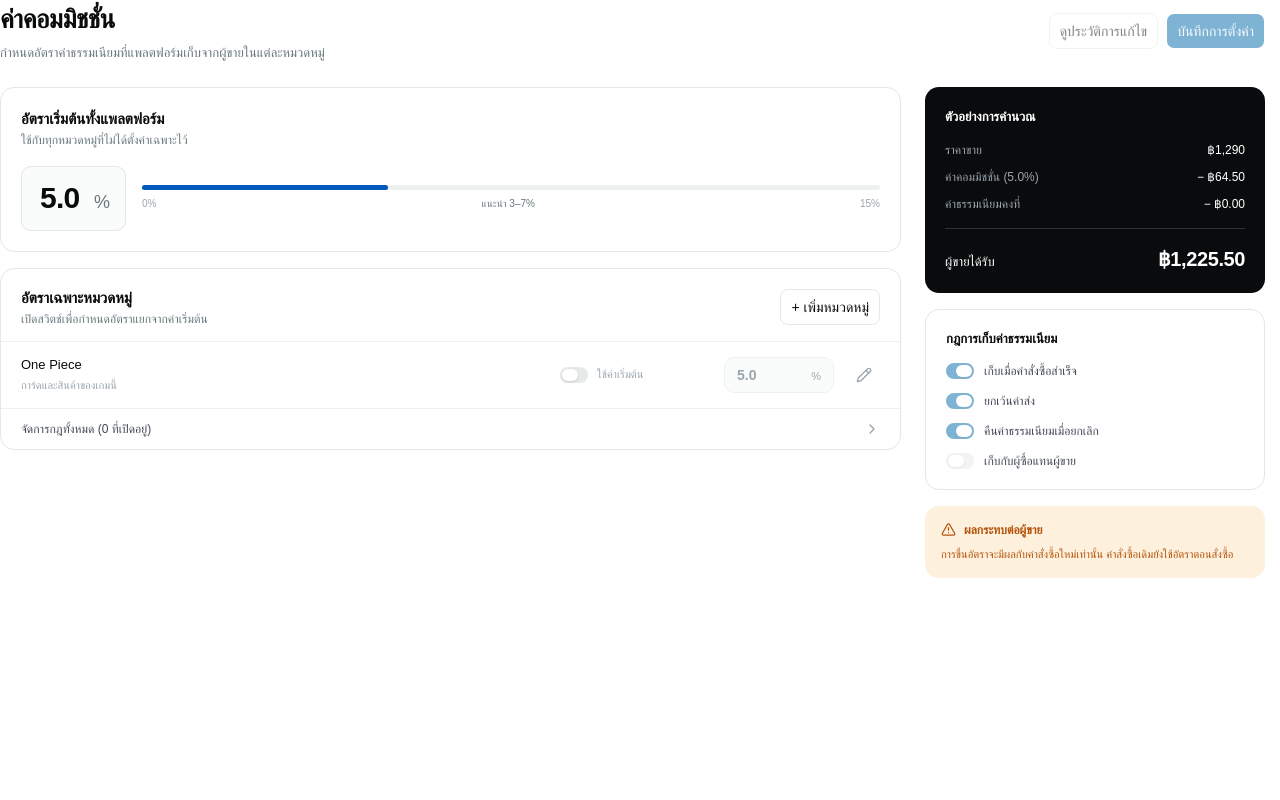
Test case: admin commission settings › shows a missing seller from the API and clears it once the form changes
Expected: the text "One Piece" is shown, [21,357,82,372]
Click the button "+ เพิ่มหมวดหมู่": (830, 307) [780,289,880,325]
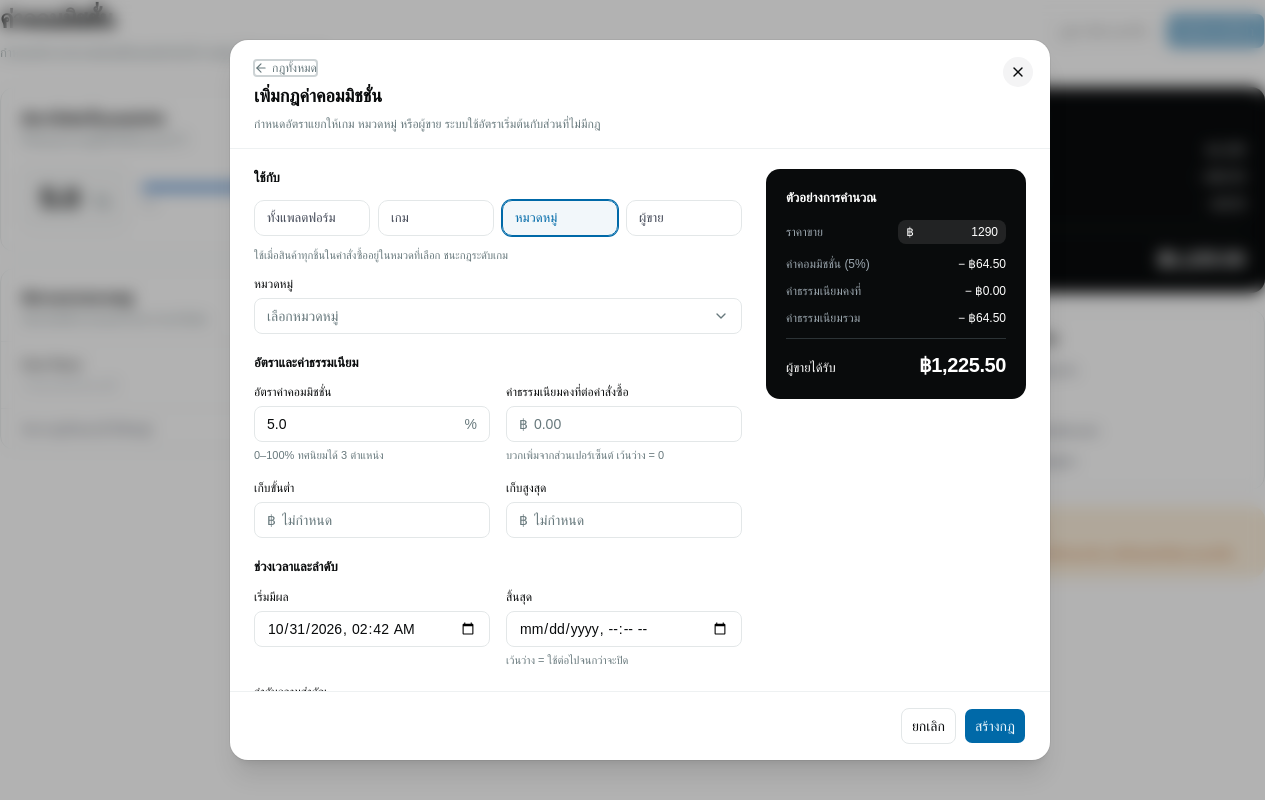
Click the radio button labelled "ผู้ขาย": (684, 218) [626,200,742,236]
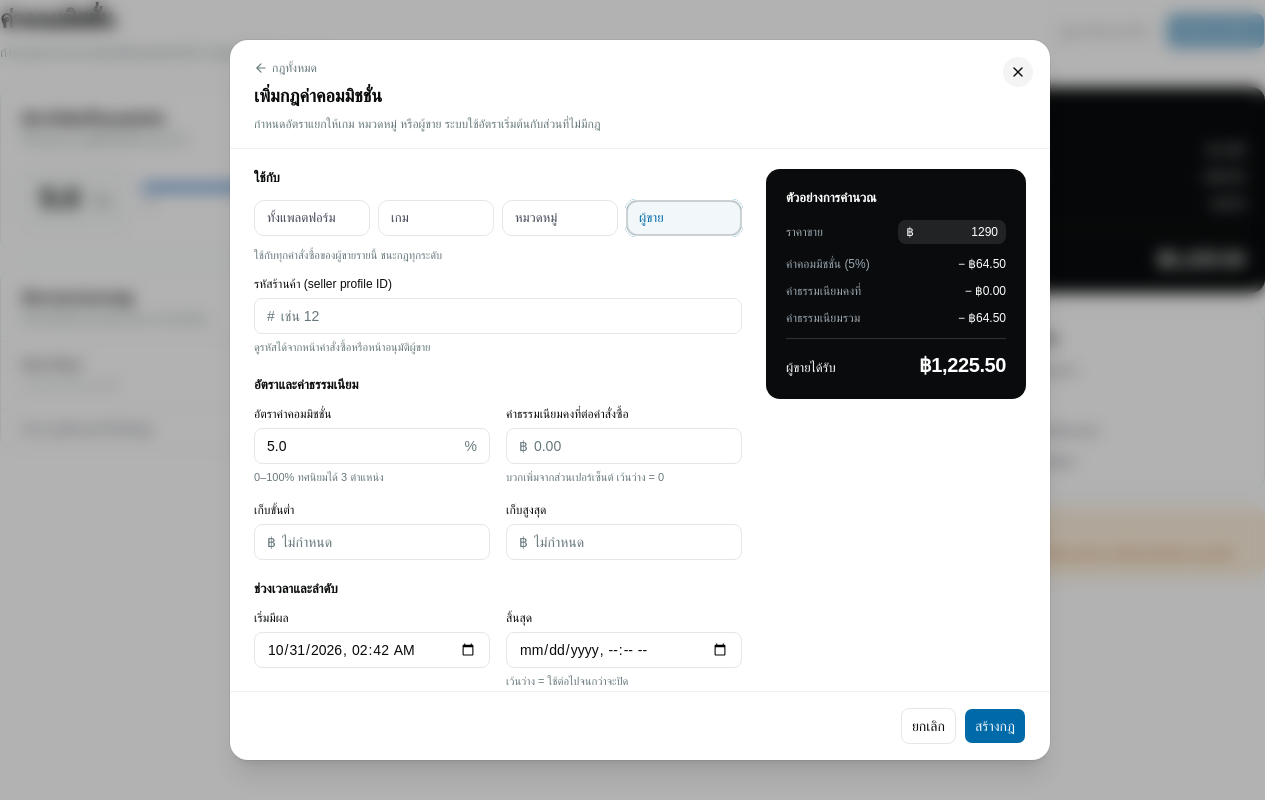
In the field labelled "รหัสร้านค้า (seller profile ID)": (508, 316) [275,298,741,334], type "999"
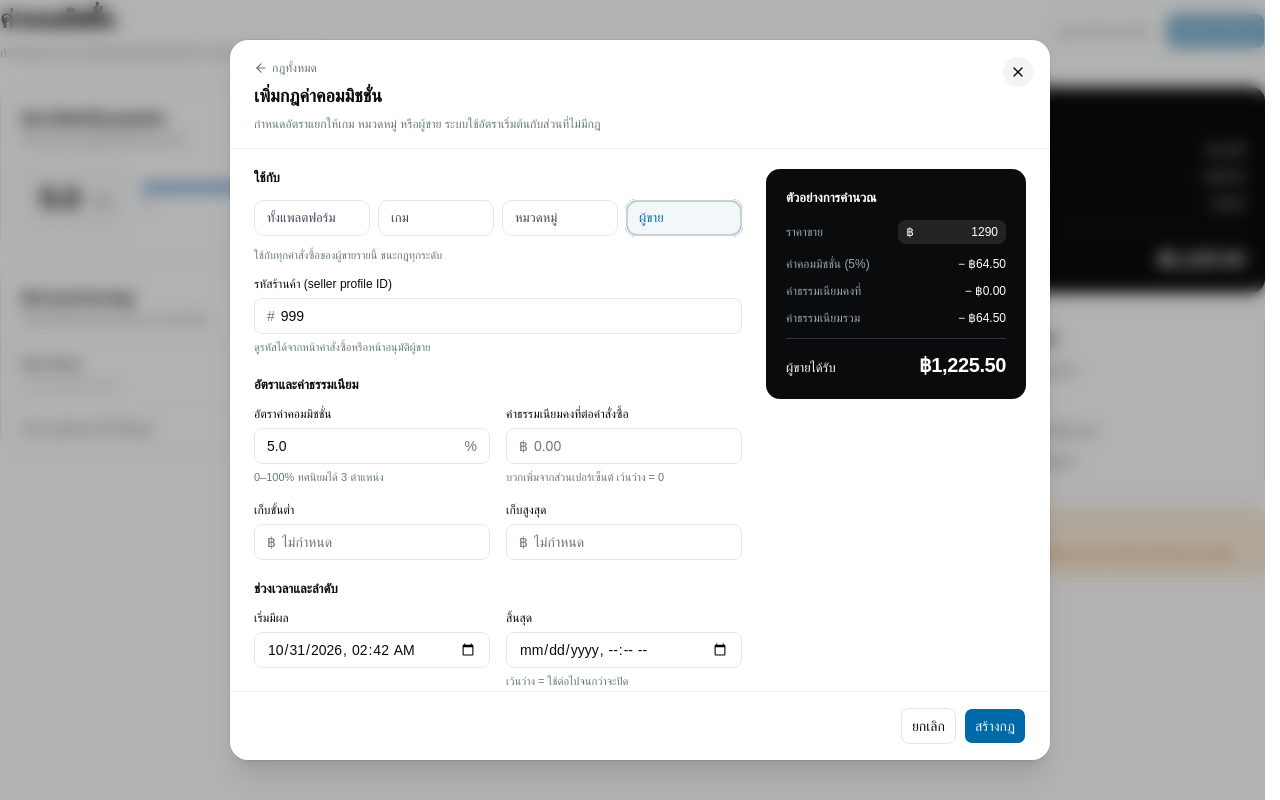
Click the button "สร้างกฎ": (995, 726) [964,708,1026,744]
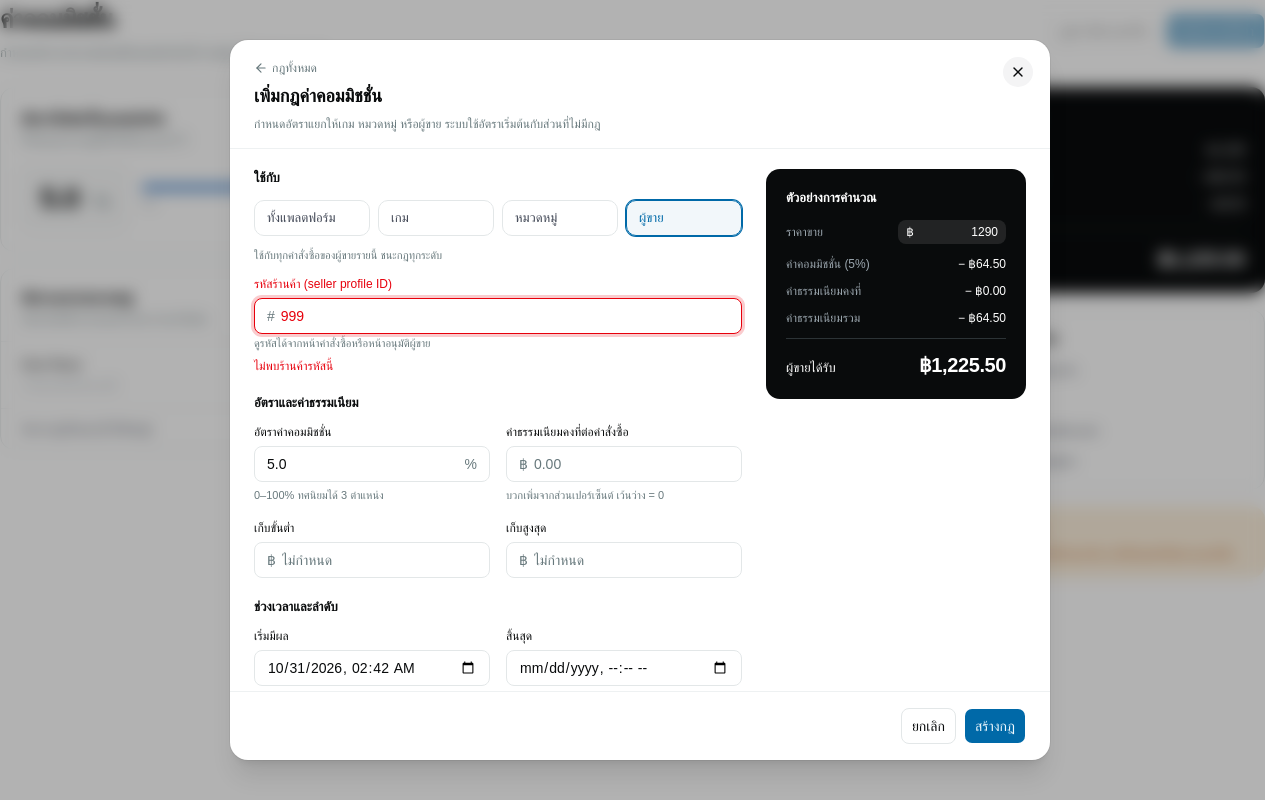
Expected: the text "ไม่พบร้านค้ารหัสนี้" is shown, [254,358,333,372]
Click the radio button labelled "เกม": (436, 218) [378,200,494,236]
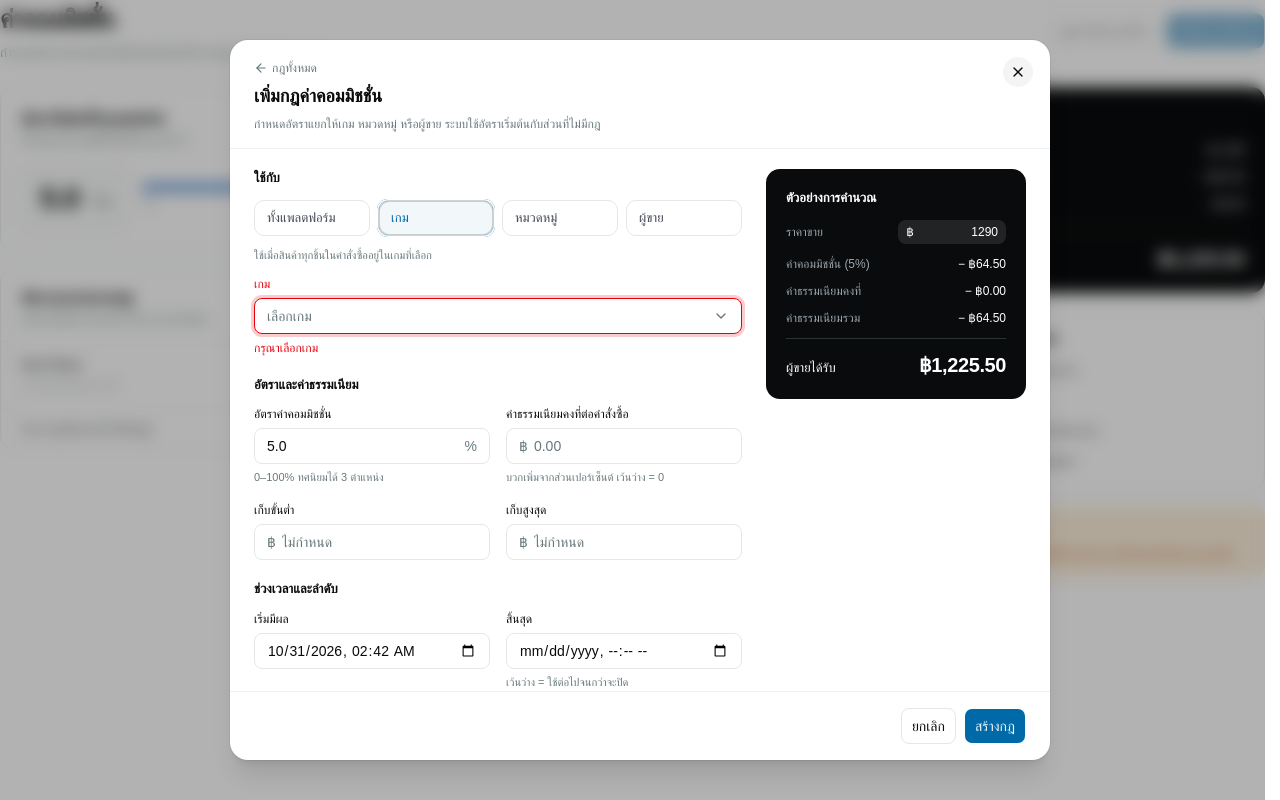
Expected: the text "ไม่พบร้านค้ารหัสนี้" is gone
